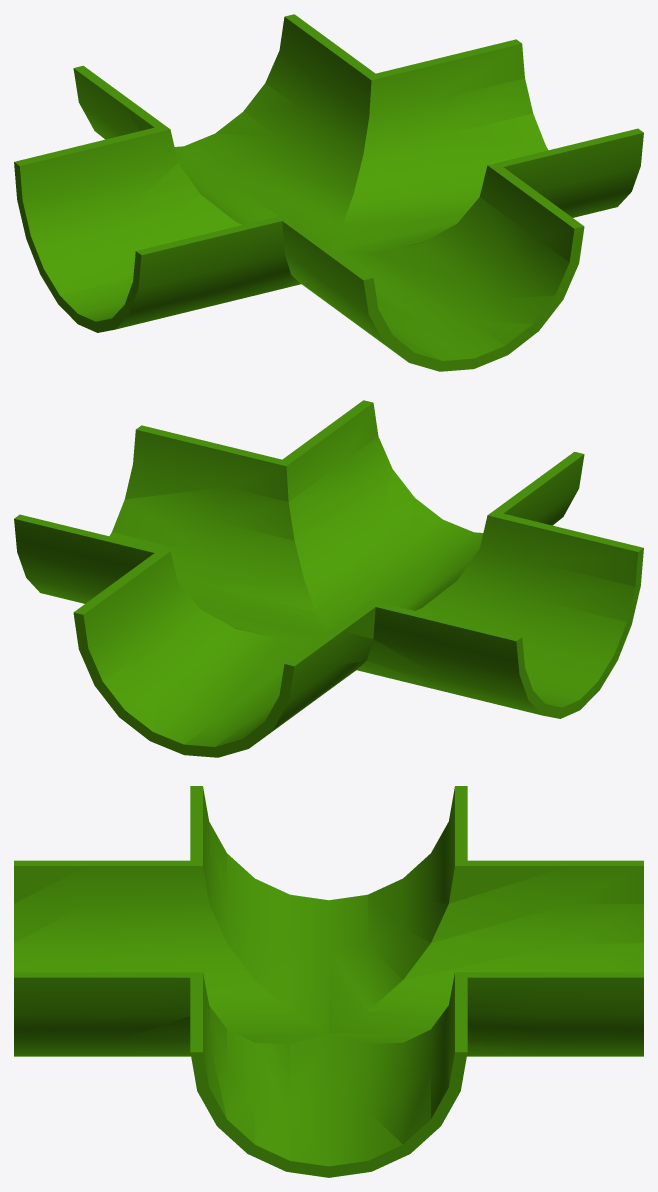
The model's file is Pipe4Way.fbx.
3 views of the same model, one above another, from view 1: azimuth 30°, elevation 25°; view 2: azimuth 150°, elevation 25°; view 3: azimuth 270°, elevation 25° (orthographic). The views are drawn at different scales.
Visible parts, largest first — view 1: Four; view 2: Four; view 3: Four.
Part boxes in pixels (x1,y1,x2,y2): Four: (14,14,643,371); Four: (14,400,643,757); Four: (14,786,643,1177).
Size of the model in its own units: 5 by 1.1 by 5.
